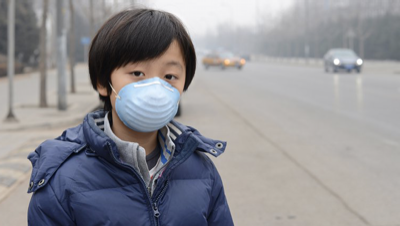with_mask: (109, 54, 186, 132)
